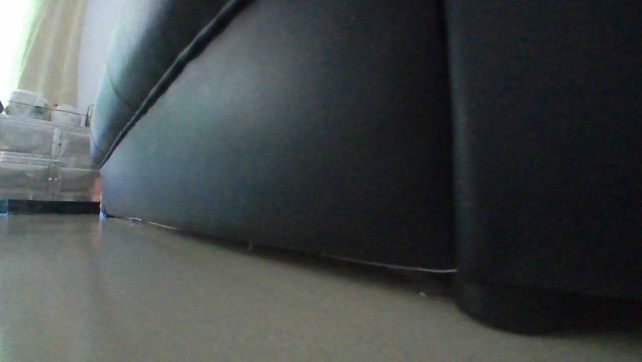sofa1: (84, 0, 641, 339)
